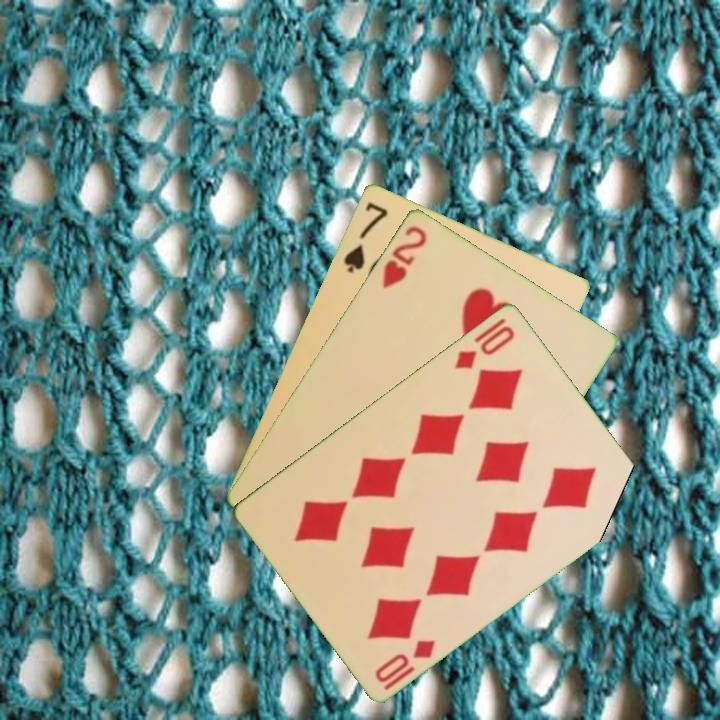10d: (450, 313, 518, 372), (371, 635, 438, 685)
2h: (378, 221, 430, 291)
7s: (339, 198, 391, 275)
